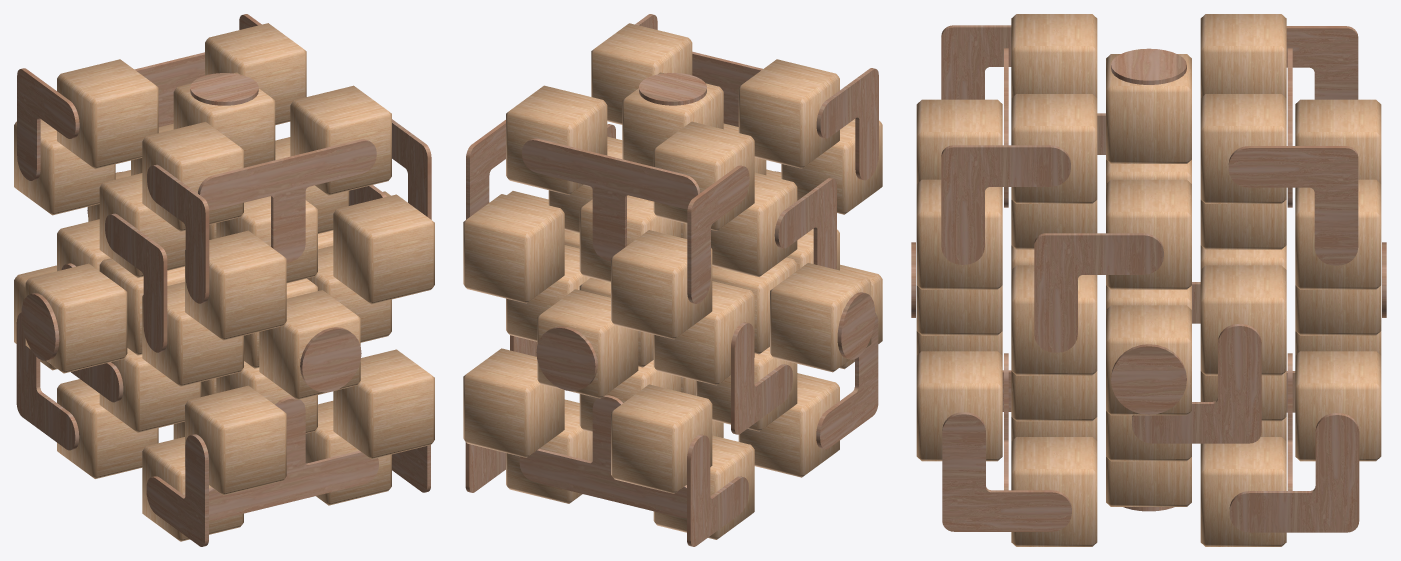
The model's file is level_72.fbx.
3 renders of one model, left to right at view 1: azimuth 30°, elevation 25°; view 2: azimuth 150°, elevation 25°; view 3: azimuth 270°, elevation 25°, orthographic. The views are drawn at different scales.
Parts seen in each view (by area): view 1: Cube.049, Cube.074, Cube.071, obj_obs_T.002, Cube.116, Cube.046, Cube.037, Cube.109, obj_obs_T.004, Cube.119, Cube.106, Cube.019 (+29 smaller); view 2: Cube.039, Cube.064, Cube.061, obj_obs_T.001, Cube.106, Cube.035, Cube.037, Cube.119, obj_obs_T.003, Cube.109, Cube.013, Cube.116 (+28 smaller); view 3: obj_obs_L.012, obj_obs_L.011, obj_obs_L.010, obj_obs_L.002, obj_obs_L.013, obj_obs_L.001, Cube.064, Cube.074, Cube.016, Cube.102, Cube.119, Cube.026 (+33 smaller).
Part boxes in pixels (bbox=[...]): Cube.049: bbox=[333, 194, 434, 304]; Cube.074: bbox=[333, 349, 434, 459]; Cube.071: bbox=[185, 385, 286, 495]; obj_obs_T.002: bbox=[198, 139, 376, 262]; Cube.116: bbox=[57, 59, 158, 169]; Cube.046: bbox=[185, 230, 286, 340]; Cube.037: bbox=[25, 263, 127, 373]; Cube.109: bbox=[290, 85, 391, 195]; obj_obs_T.004: bbox=[209, 397, 378, 520]; Cube.119: bbox=[205, 23, 306, 125]; Cube.106: bbox=[142, 122, 243, 231]; Cube.019: bbox=[259, 290, 360, 399]; Cube.039: bbox=[463, 194, 564, 303]; Cube.064: bbox=[463, 348, 564, 457]; Cube.061: bbox=[611, 384, 712, 493]; obj_obs_T.001: bbox=[522, 138, 700, 261]; Cube.106: bbox=[738, 59, 839, 168]; Cube.035: bbox=[611, 230, 712, 339]; Cube.037: bbox=[770, 263, 871, 372]; Cube.119: bbox=[506, 85, 607, 194]; obj_obs_T.003: bbox=[519, 395, 686, 518]; Cube.109: bbox=[591, 23, 692, 124]; Cube.013: bbox=[653, 281, 754, 385]; Cube.116: bbox=[653, 121, 754, 230]; obj_obs_L.012: bbox=[1229, 413, 1359, 532]; obj_obs_L.011: bbox=[1228, 146, 1358, 265]; obj_obs_L.010: bbox=[941, 145, 1070, 264]; obj_obs_L.002: bbox=[1034, 233, 1163, 352]; obj_obs_L.013: bbox=[942, 412, 1071, 531]; obj_obs_L.001: bbox=[1132, 324, 1261, 443]; Cube.064: bbox=[1295, 351, 1381, 461]; Cube.074: bbox=[916, 351, 1002, 461]; Cube.016: bbox=[1200, 265, 1286, 375]; Cube.102: bbox=[1106, 54, 1191, 163]; Cube.119: bbox=[1200, 94, 1286, 203]; Cube.026: bbox=[1106, 179, 1191, 289].
Size of the model in its own units: 11.05 by 11.05 by 11.05.
